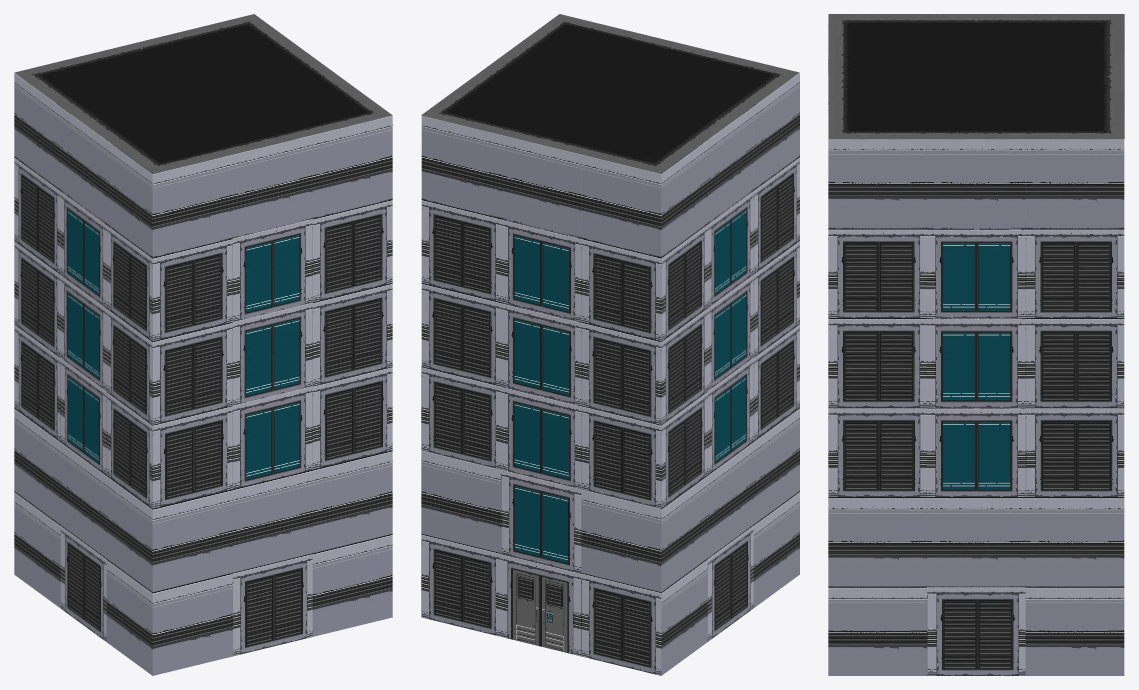
File: cyb-predio-medio.gltf
The picture shows the model from 3 angles, left to right: view 1: azimuth 30°, elevation 25°; view 2: azimuth 150°, elevation 25°; view 3: azimuth 270°, elevation 25°; orthographic projection. The views are drawn at different scales.
Parts seen in each view (by area): view 1: 4story_top, 4story_btm, roof; view 2: 4story_top, 4story_btm, roof; view 3: 4story_top, 4story_btm, roof.
Boxes of the visible parts, x1,y1,x2,y2 form: 4story_top: [14, 72, 392, 424]; 4story_btm: [14, 324, 392, 675]; roof: [15, 14, 392, 173]; 4story_top: [421, 72, 799, 424]; 4story_btm: [421, 324, 799, 675]; roof: [421, 14, 798, 173]; 4story_top: [828, 14, 1124, 407]; 4story_btm: [828, 407, 1124, 675]; roof: [828, 14, 1124, 139].
Size of the model in its own units: 6.01 by 12 by 6.01.
2 materials, 2 textured.
